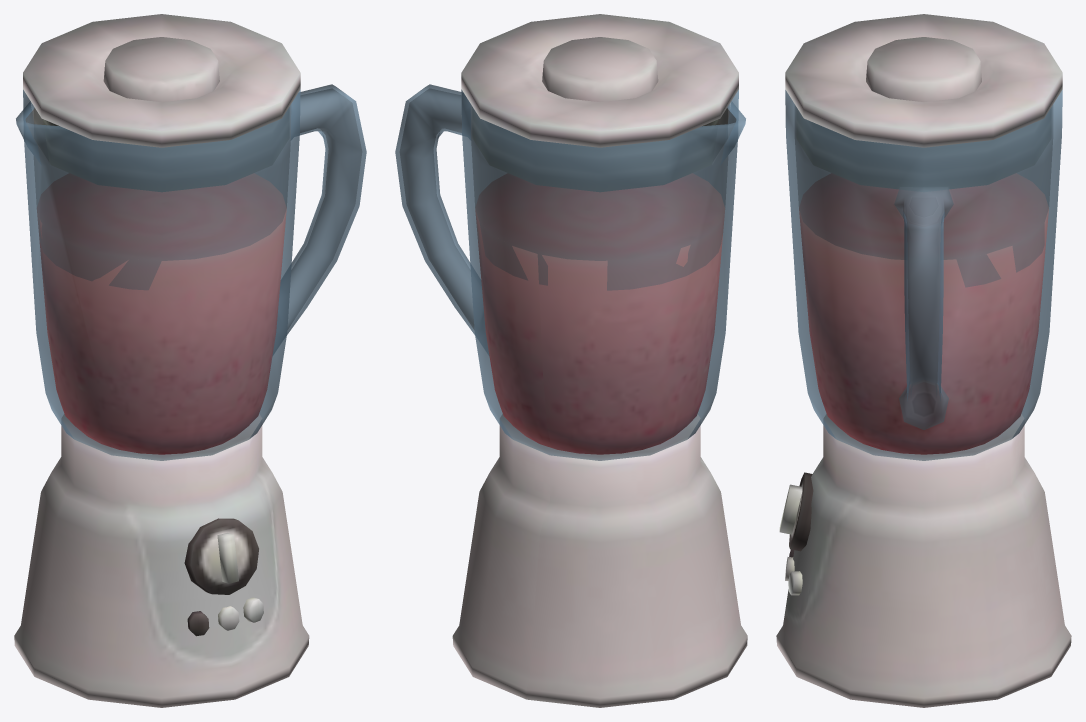
3 renders of one model, left to right at view 1: azimuth 30°, elevation 25°; view 2: azimuth 150°, elevation 25°; view 3: azimuth 270°, elevation 25°, orthographic.
Bounding box in the file's own units: 4.43 × 7.27 × 3.33.
Materials: 3 (2 with a texture image).
